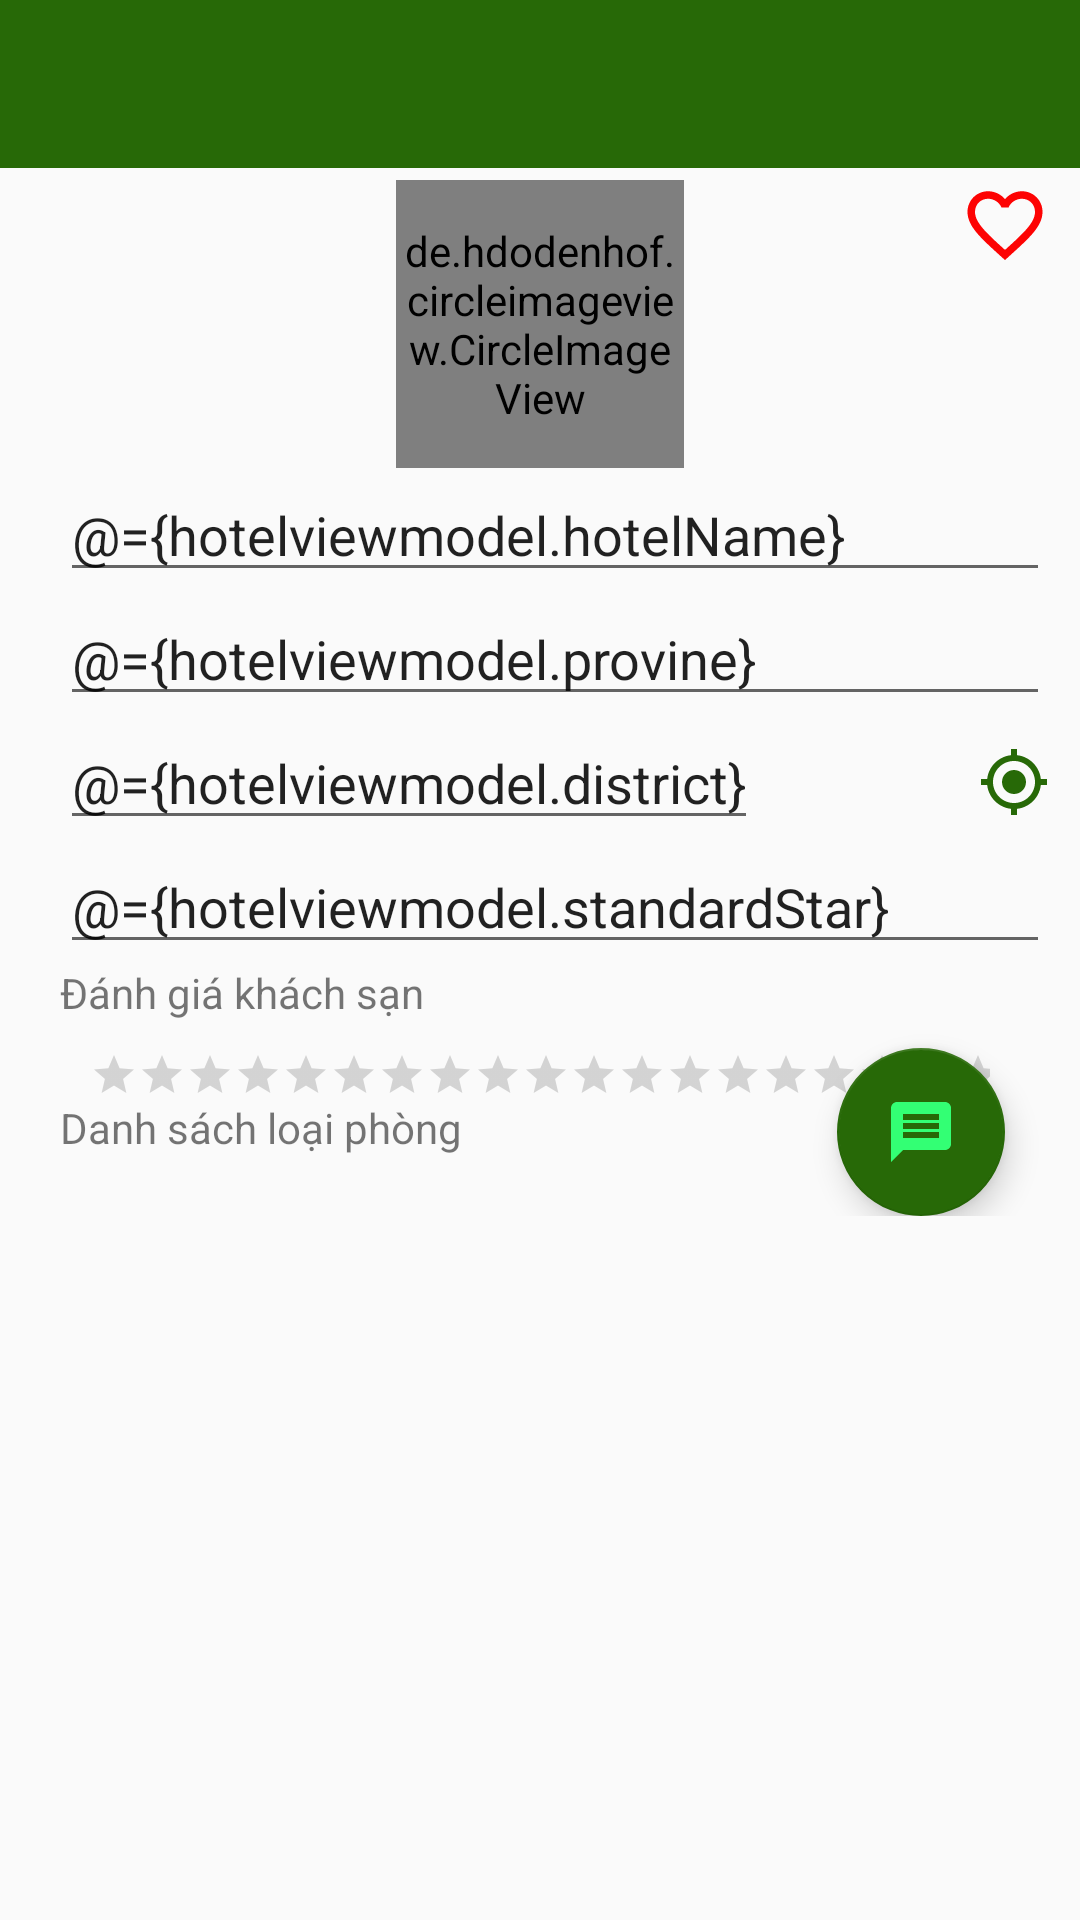

Named icons in this screenshot (1080px×1920px) and their bounding boxes, (x1, y1, x2, y2):
location: (981, 749, 1047, 815)
message: (837, 1048, 1005, 1216)
